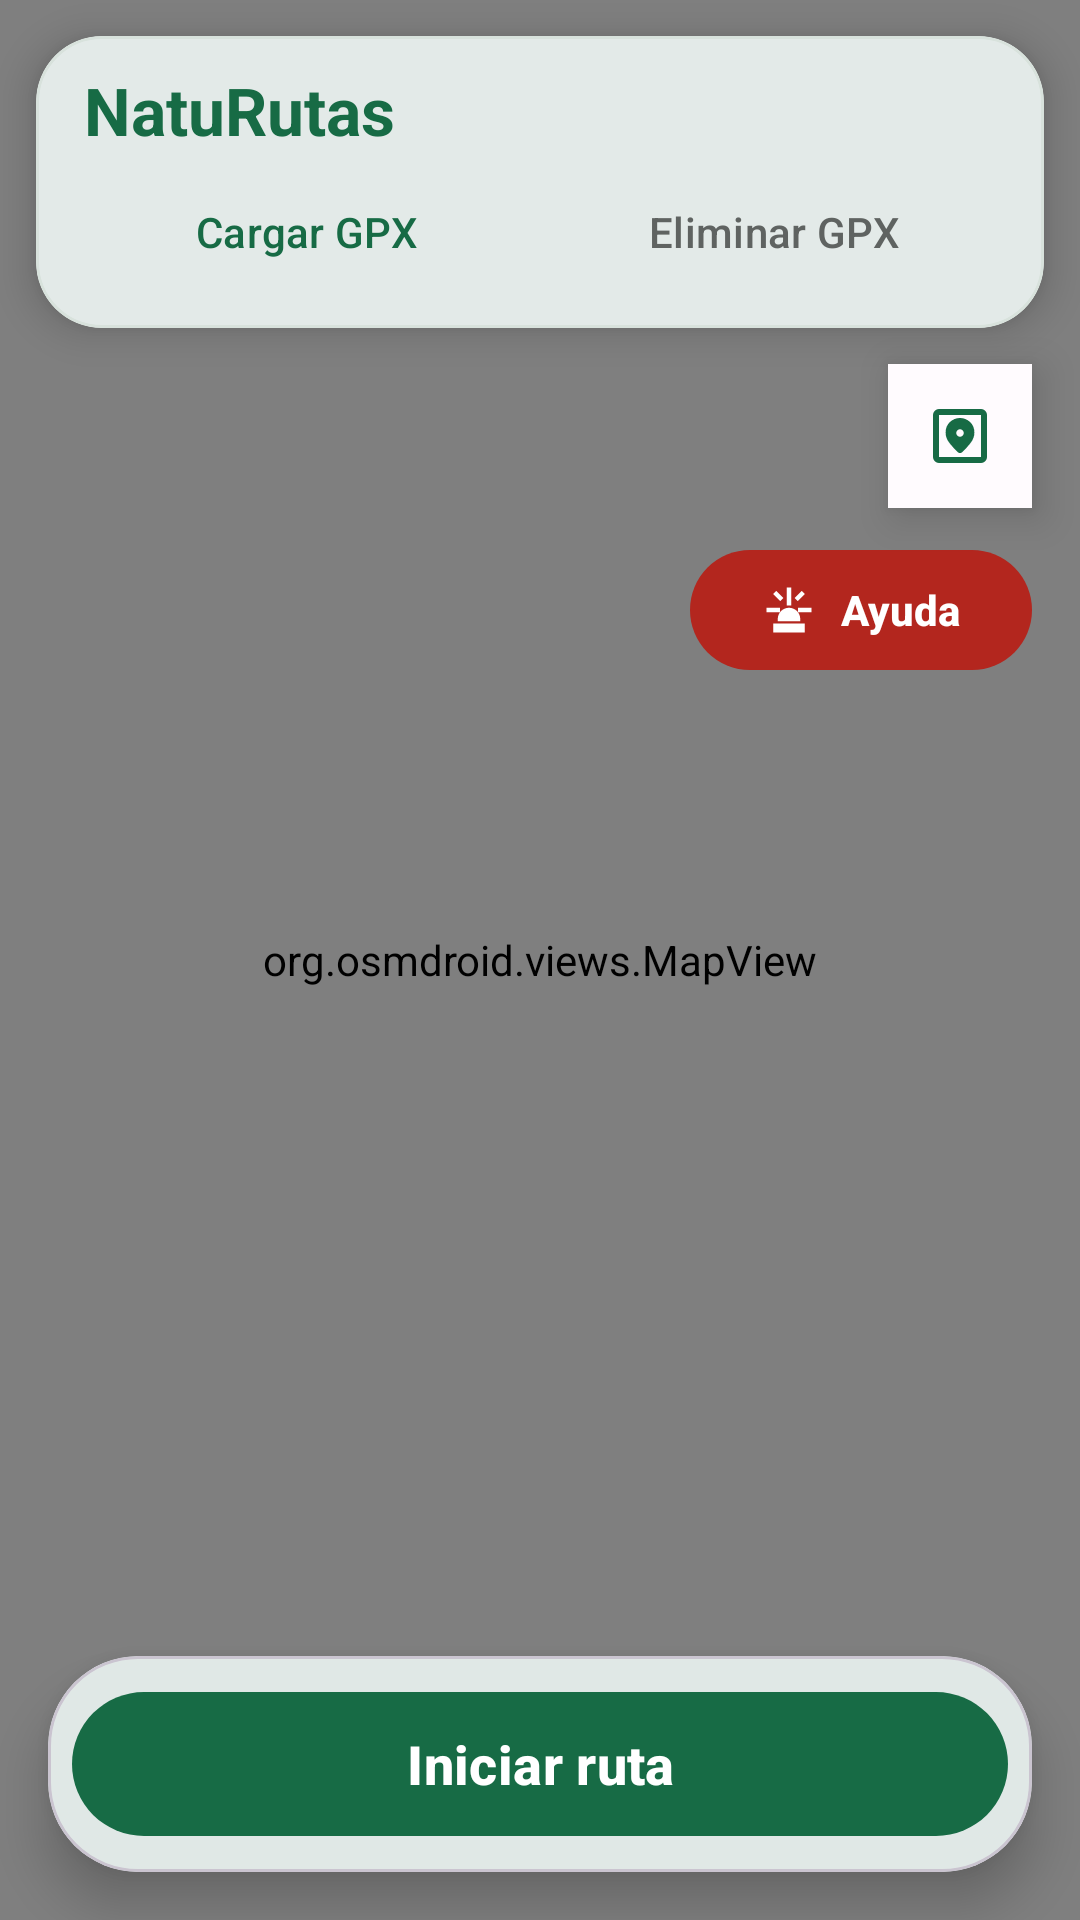

Locate icon controls on the screen. Image size 1080*1920, boxes as (x1, y1, x2, y2).
Elegir tipo de mapa: (888, 364, 1032, 508)
